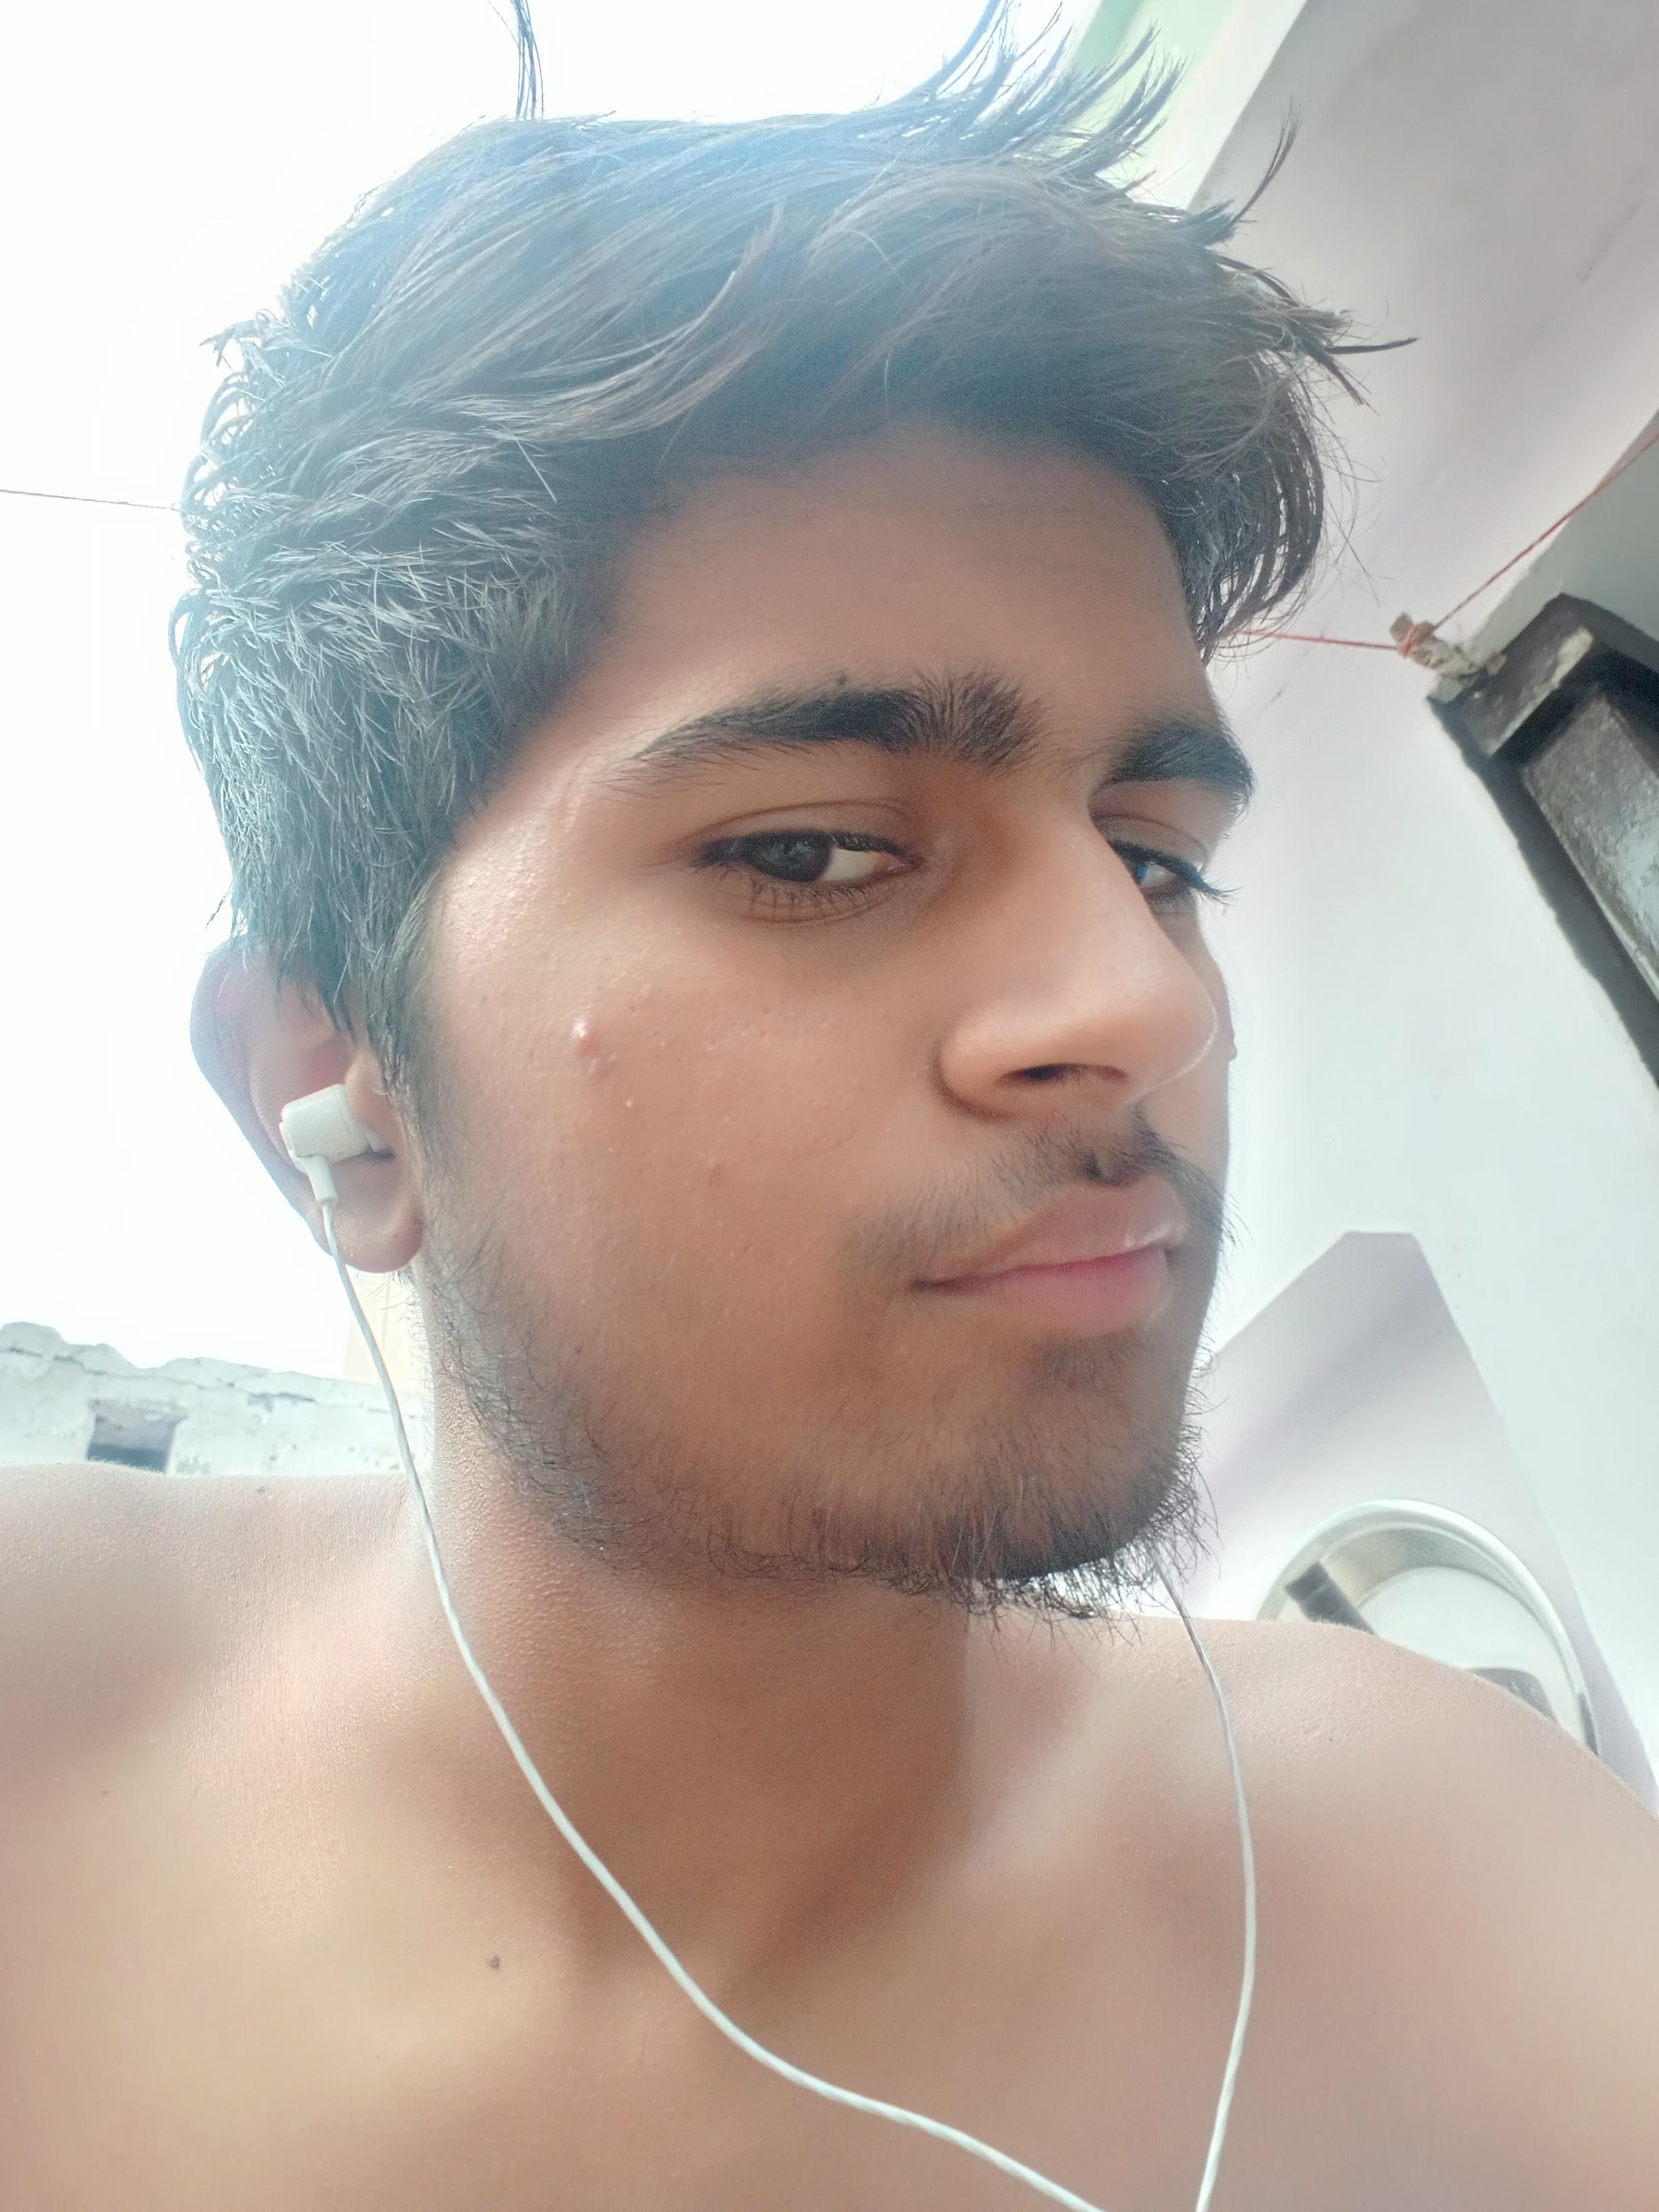Acne: (559, 1005, 608, 1055), (577, 1054, 622, 1089), (634, 977, 664, 1015), (617, 1087, 640, 1127), (709, 1148, 725, 1202), (655, 1026, 676, 1066)
Wrinkles: (877, 550, 1121, 578), (789, 495, 1127, 514)
